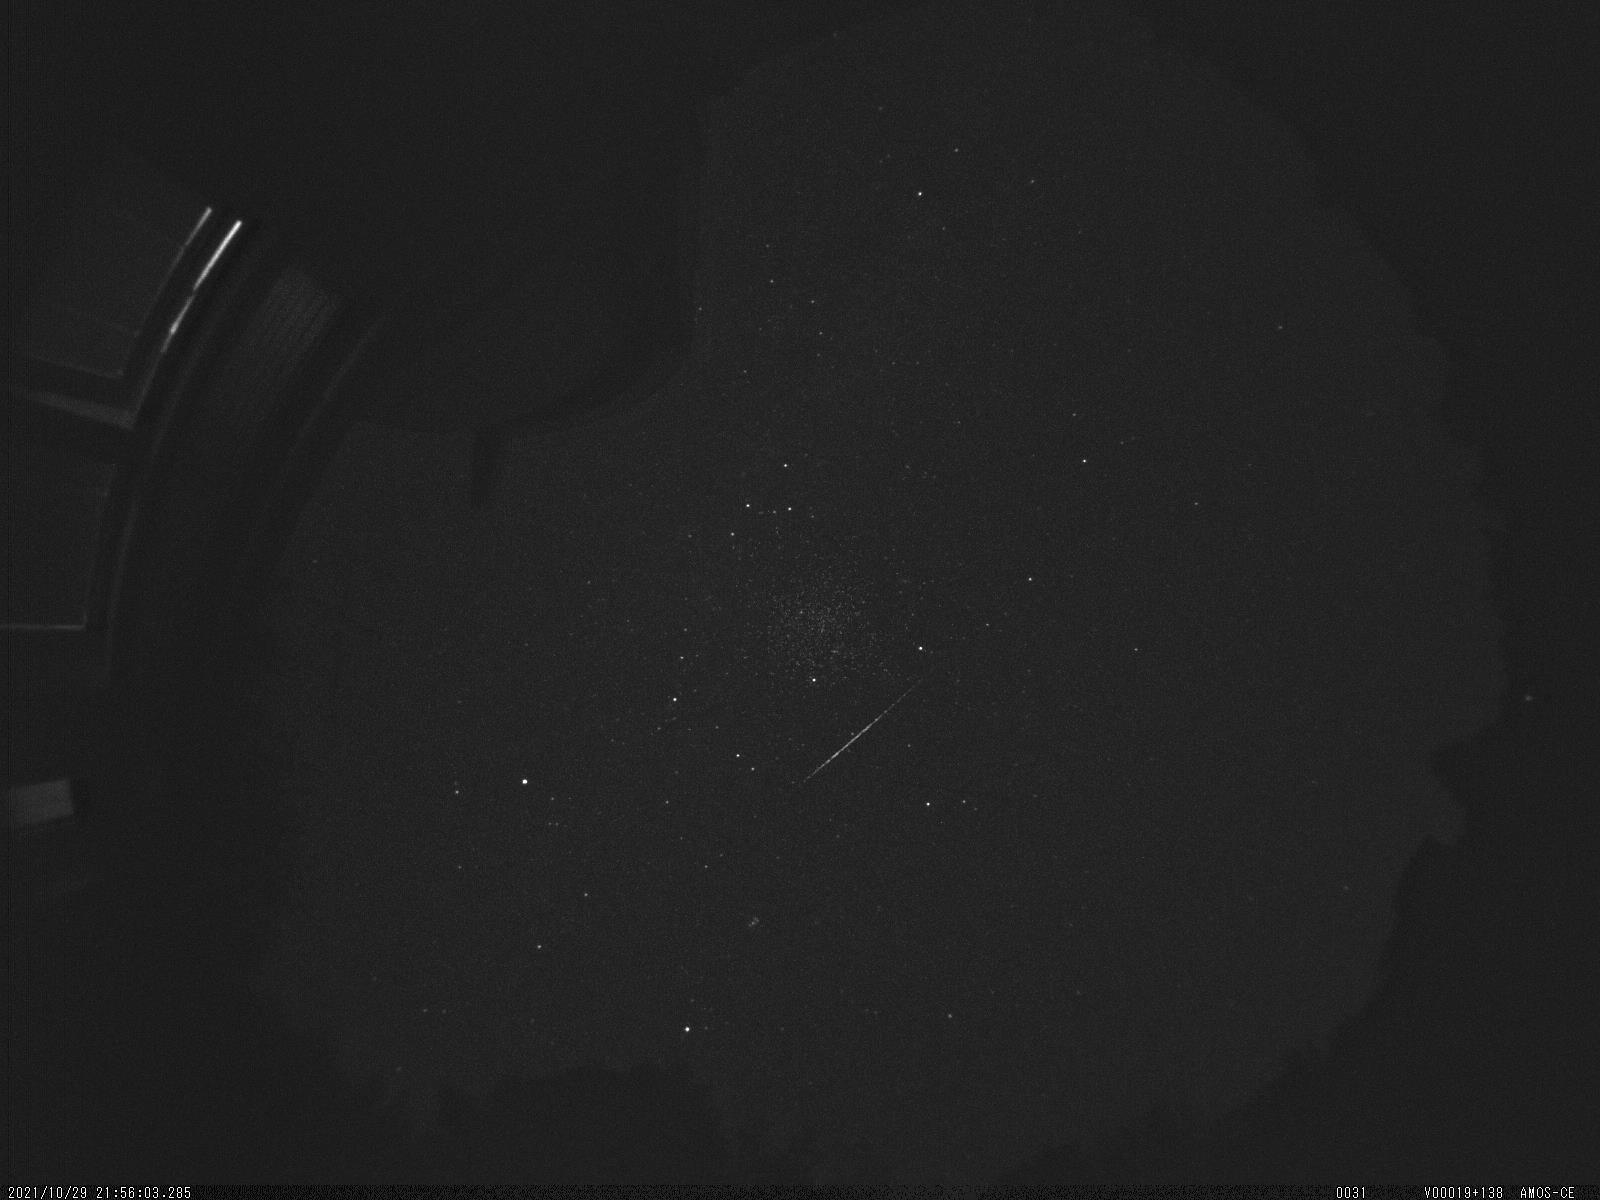Meteor: (800, 664, 930, 792)
